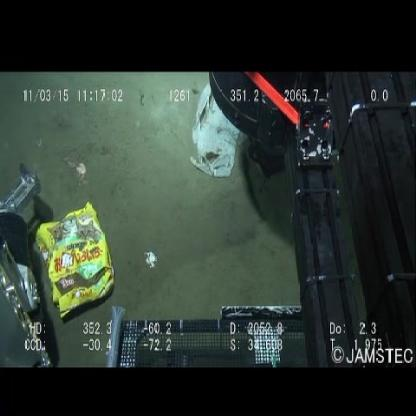Rov: (207, 70, 416, 302), (102, 302, 416, 367), (1, 160, 53, 368)
Rác: (35, 198, 120, 322), (188, 77, 243, 188)
